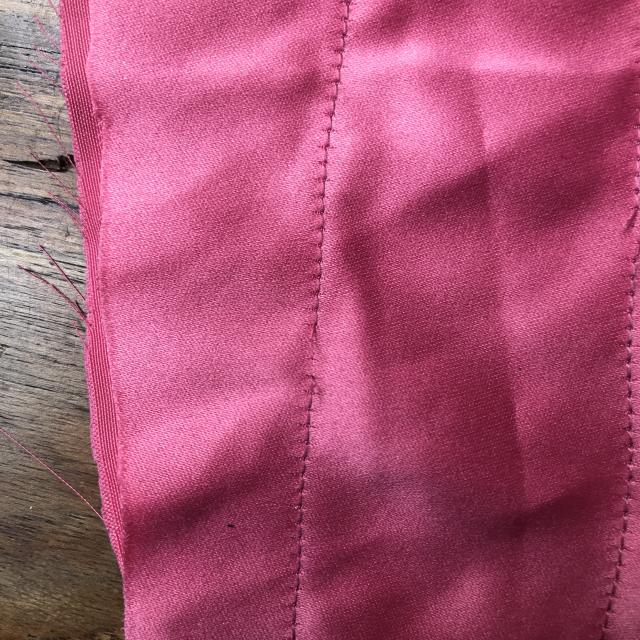broken: (286, 312, 340, 408)
